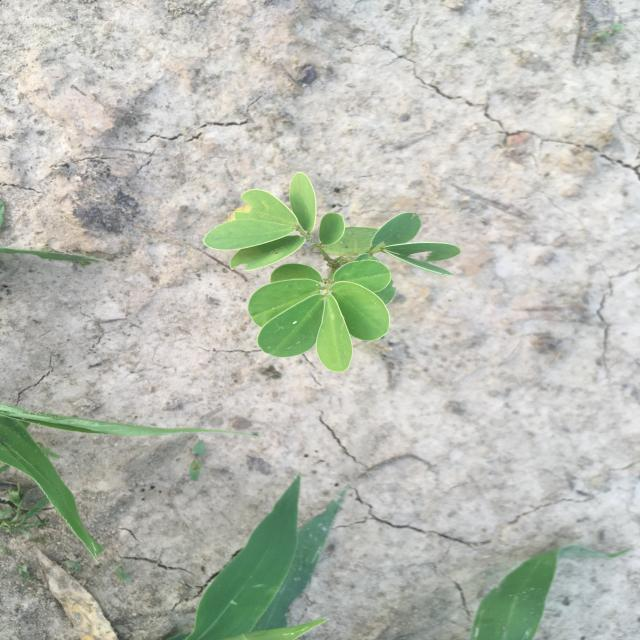Sicklepod: (202, 171, 462, 375)
